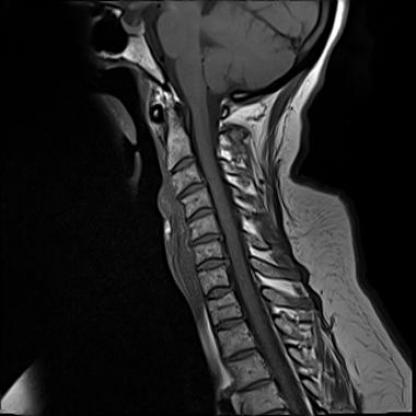Disc Bulgerotation: (194, 256, 229, 271), (189, 232, 225, 246), (185, 206, 217, 221), (175, 184, 206, 199)
Disc Protrusionrotation: (195, 257, 229, 272)
Osteophytesrotation: (189, 231, 225, 246), (184, 206, 216, 221), (175, 184, 206, 199)
